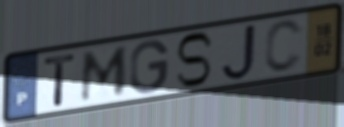C: (262, 17, 306, 75)
G: (128, 38, 172, 97)
J: (219, 22, 259, 84)
M: (78, 44, 131, 105)
S: (174, 30, 216, 90)
T: (42, 51, 78, 108)
